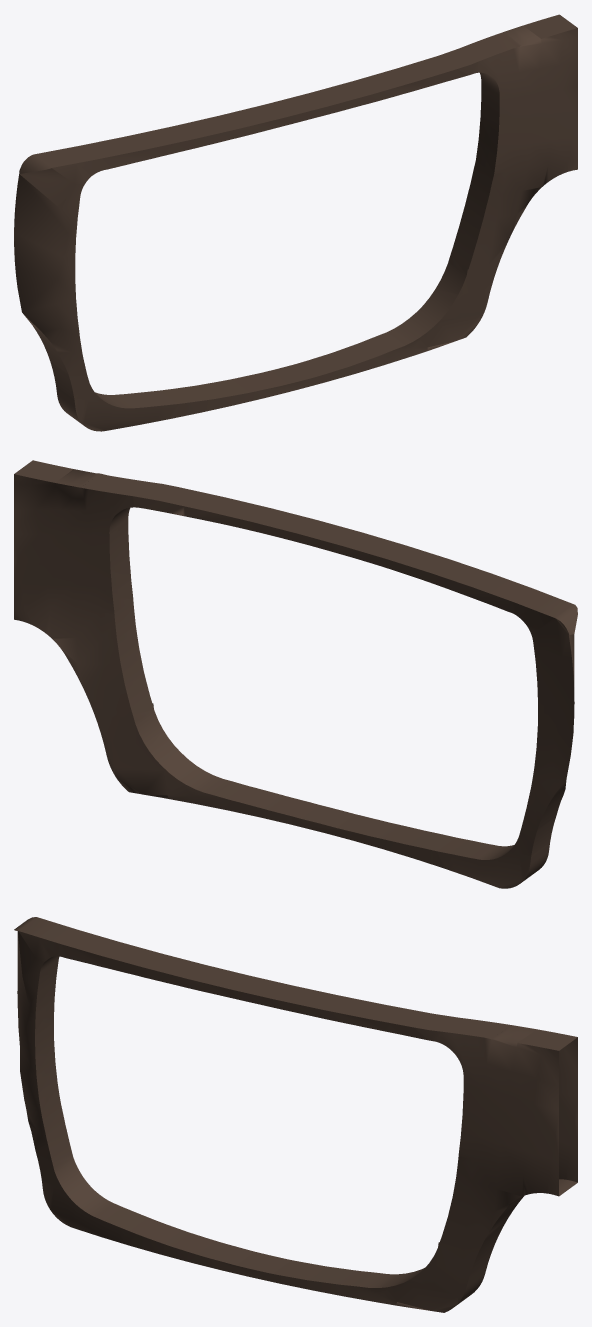
The model's file is original-2.obj.
3 renders of one model, top to bottom at view 1: azimuth 30°, elevation 25°; view 2: azimuth 150°, elevation 25°; view 3: azimuth 330°, elevation 25°, orthographic. The views are drawn at different scales.
Parts seen in each view (by area): view 1: Group1/mesh1/mesh1-geometry#mesh1-geometry; view 2: Group1/mesh1/mesh1-geometry#mesh1-geometry; view 3: Group1/mesh1/mesh1-geometry#mesh1-geometry.
Boxes of the visible parts, x1=… form: Group1/mesh1/mesh1-geometry#mesh1-geometry: x1=14, y1=14, x2=577, y2=431; Group1/mesh1/mesh1-geometry#mesh1-geometry: x1=14, y1=460, x2=577, y2=888; Group1/mesh1/mesh1-geometry#mesh1-geometry: x1=14, y1=917, x2=577, y2=1312.
Bounding box in the file's own units: 0.6177 × 0.3114 × 0.0646.
